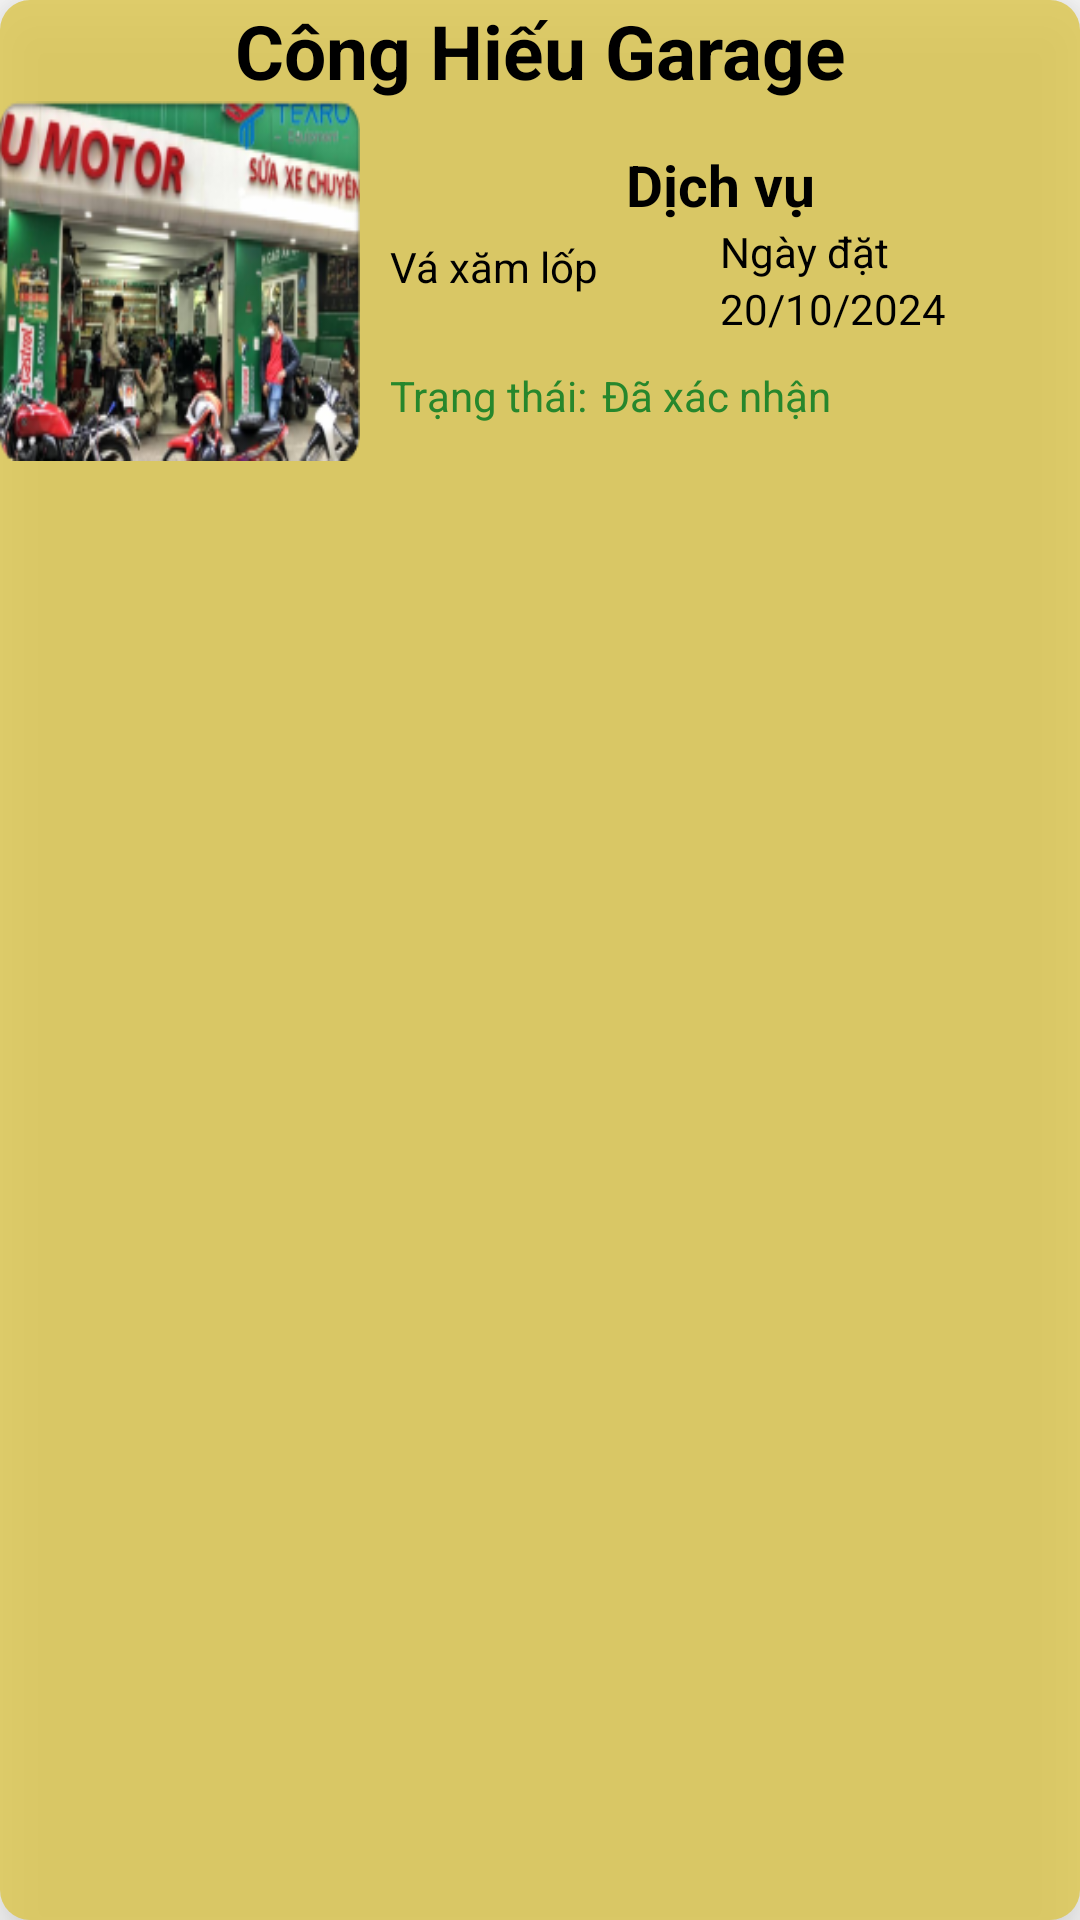

Icon click points for this 1080×1920 phone screenshot, format (x=x, y=y):
cuahang: (x=180, y=281)
